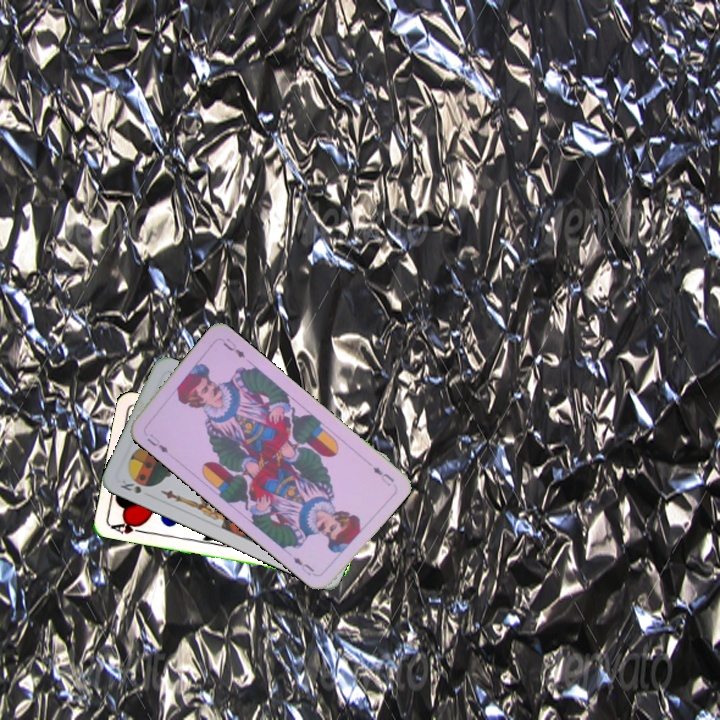EU: (368, 462, 397, 489), (143, 430, 171, 456)
HA: (107, 516, 148, 536)
SK: (116, 476, 144, 496)
